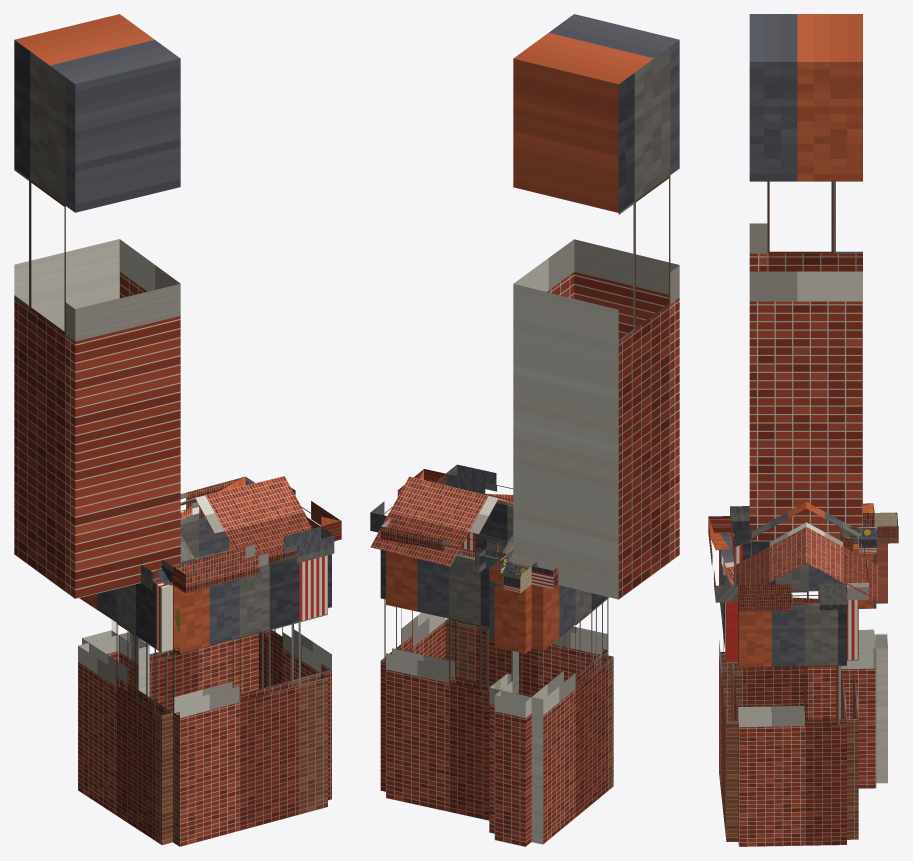
3 views of the same model, side by side, from view 1: azimuth 30°, elevation 25°; view 2: azimuth 150°, elevation 25°; view 3: azimuth 270°, elevation 25° (orthographic). The views are drawn at different scales.
Visible parts, largest first — view 1: 1106973765__chimney_0_xb, 1106973765__wall_0_xb, 1106973765__wall_1_xb, 1106973765__wall_4_xb, 1106973765_roof_-1_xb, 1106973765__cornice_0, 1106973765__wall_5_xb, 1106973765__wall_3_xb, 1106973765__cornice_4, 1106973765__cornice_5, 1106973765__wall_2_xb; view 2: 1106973765__chimney_0_xb, 1106973765__wall_4_xb, 1106973765__wall_1_xb, 1106973765__wall_2_xb, 1106973765__wall_0_xb, 1106973765_roof_1_xb, 1106973765__wall_5_xb, 1106973765__cornice_4, 1106973765__wall_3_xb, 1106973765__cornice_0, 1106973765__cornice_2, 1106973765__cornice_5; view 3: 1106973765__chimney_0_xb, 1106973765__wall_5_xb, 1106973765__wall_1_xb, 1106973765__wall_0_xb, 1106973765__wall_3_xb, 1106973765_roof_-1_xb, 1106973765_roof_1_xb, 1106973765__wall_4_xb, 1106973765__cornice_5, 1106973765__wall_2_xb, 1106973765__cornice_0, 1106973765__cornice_2 (+3 smaller).
Boxes of the visible parts, x1,y1,x2,y2 form: 1106973765__chimney_0_xb: (14,14,180,598); 1106973765__wall_0_xb: (173,554,327,846); 1106973765__wall_1_xb: (78,578,172,845); 1106973765__wall_4_xb: (131,513,258,712); 1106973765_roof_-1_xb: (156,476,312,585); 1106973765__cornice_0: (173,526,334,593); 1106973765__wall_5_xb: (258,554,331,800); 1106973765__wall_3_xb: (118,632,149,696); 1106973765__cornice_4: (180,476,254,523); 1106973765__cornice_5: (291,487,341,541); 1106973765__wall_2_xb: (82,630,118,661); 1106973765__chimney_0_xb: (513,14,679,599); 1106973765__wall_4_xb: (386,551,518,820); 1106973765__wall_1_xb: (531,584,613,844); 1106973765__wall_2_xb: (494,585,531,846); 1106973765__wall_0_xb: (445,501,607,696); 1106973765_roof_1_xb: (370,476,528,574); 1106973765__wall_5_xb: (380,550,445,791); 1106973765__cornice_4: (381,518,513,568); 1106973765__wall_3_xb: (489,586,512,833); 1106973765__cornice_0: (445,464,513,501); 1106973765__cornice_2: (489,560,531,593); 1106973765__cornice_5: (370,469,445,532); 1106973765__chimney_0_xb: (749,14,862,541); 1106973765__wall_5_xb: (738,603,846,846); 1106973765__wall_1_xb: (733,533,874,719); 1106973765__wall_0_xb: (719,533,738,841); 1106973765__wall_3_xb: (840,544,876,788); 1106973765_roof_-1_xb: (734,502,806,594); 1106973765_roof_1_xb: (806,502,878,601); 1106973765__wall_4_xb: (841,549,858,839); 1106973765__cornice_5: (738,583,847,611); 1106973765__wall_2_xb: (874,543,887,783); 1106973765__cornice_0: (708,516,738,602); 1106973765__cornice_2: (874,512,898,543).
Bounding box in the file's own units: 0.3713 × 1.05 × 0.2517.
1 material, 1 textured.
